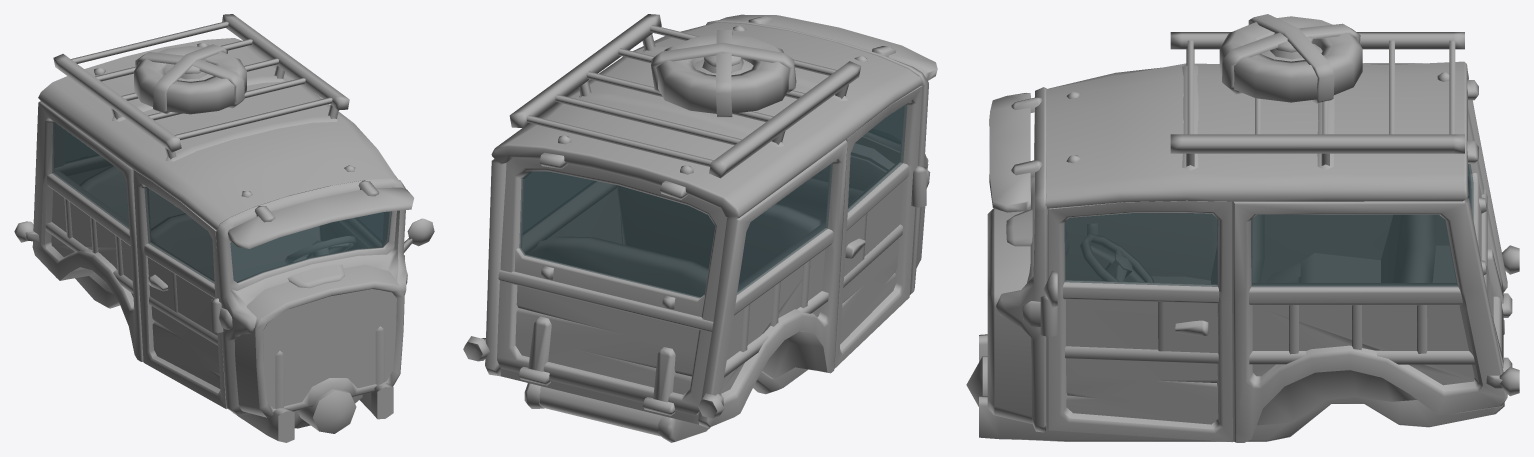
Rendered from Body_Woody.fbx.
3 views of the same model, side by side, from view 1: azimuth 30°, elevation 25°; view 2: azimuth 150°, elevation 25°; view 3: azimuth 270°, elevation 25° (orthographic). The views are drawn at different scales.
Parts seen in each view (by area): view 1: Woody_Body_Mesh, Woody_Door_Right_Mesh, Woody_Body_Window_Mesh, Woody_Body_Rack_Mesh, Wheel_Spare_Woody_Mesh, Woody_Body_Cap_Mesh, Woody_Door_Right_Window_Mesh, Woody_Door_Left_Mesh, Woody_SteerWheel_Mesh, Woody_Door_Left_Window_Mesh; view 2: Woody_Body_Mesh, Woody_Body_Window_Mesh, Woody_Door_Right_Mesh, Woody_Body_Rack_Mesh, Wheel_Spare_Woody_Mesh, Woody_Door_Right_Window_Mesh, Woody_Body_Cap_Mesh; view 3: Woody_Body_Mesh, Woody_Door_Left_Mesh, Woody_Body_Window_Mesh, Woody_Body_Rack_Mesh, Woody_Door_Left_Window_Mesh, Wheel_Spare_Woody_Mesh, Woody_Door_Right_Mesh, Woody_Body_Cap_Mesh, Woody_SteerWheel_Mesh.
Part boxes in pixels (<box>): Woody_Body_Mesh: <box>14,38,407,442</box>; Woody_Door_Right_Mesh: <box>133,170,227,408</box>; Woody_Body_Window_Mesh: <box>52,122,391,282</box>; Woody_Body_Rack_Mesh: <box>53,14,349,159</box>; Wheel_Spare_Woody_Mesh: <box>134,44,246,114</box>; Woody_Body_Cap_Mesh: <box>228,180,413,248</box>; Woody_Door_Right_Window_Mesh: <box>144,187,214,283</box>; Woody_Door_Left_Mesh: <box>323,212,434,253</box>; Woody_SteerWheel_Mesh: <box>285,236,355,263</box>; Woody_Door_Left_Window_Mesh: <box>355,212,383,242</box>; Woody_Body_Mesh: <box>463,20,930,442</box>; Woody_Body_Window_Mesh: <box>519,107,902,298</box>; Woody_Door_Right_Mesh: <box>834,85,922,368</box>; Woody_Body_Rack_Mesh: <box>509,14,861,178</box>; Wheel_Spare_Woody_Mesh: <box>651,30,796,117</box>; Woody_Door_Right_Window_Mesh: <box>847,104,907,212</box>; Woody_Body_Cap_Mesh: <box>720,14,937,80</box>; Woody_Body_Mesh: <box>966,61,1519,442</box>; Woody_Door_Left_Mesh: <box>1043,200,1232,442</box>; Woody_Body_Window_Mesh: <box>1251,164,1473,287</box>; Woody_Body_Rack_Mesh: <box>1170,32,1464,166</box>; Woody_Door_Left_Window_Mesh: <box>1064,213,1218,286</box>; Wheel_Spare_Woody_Mesh: <box>1219,14,1362,103</box>; Woody_Door_Right_Mesh: <box>1066,213,1216,281</box>; Woody_Body_Cap_Mesh: <box>989,93,1042,212</box>; Woody_SteerWheel_Mesh: <box>1080,234,1153,282</box>.
Size of the model in its own units: 185 by 221 by 296.
